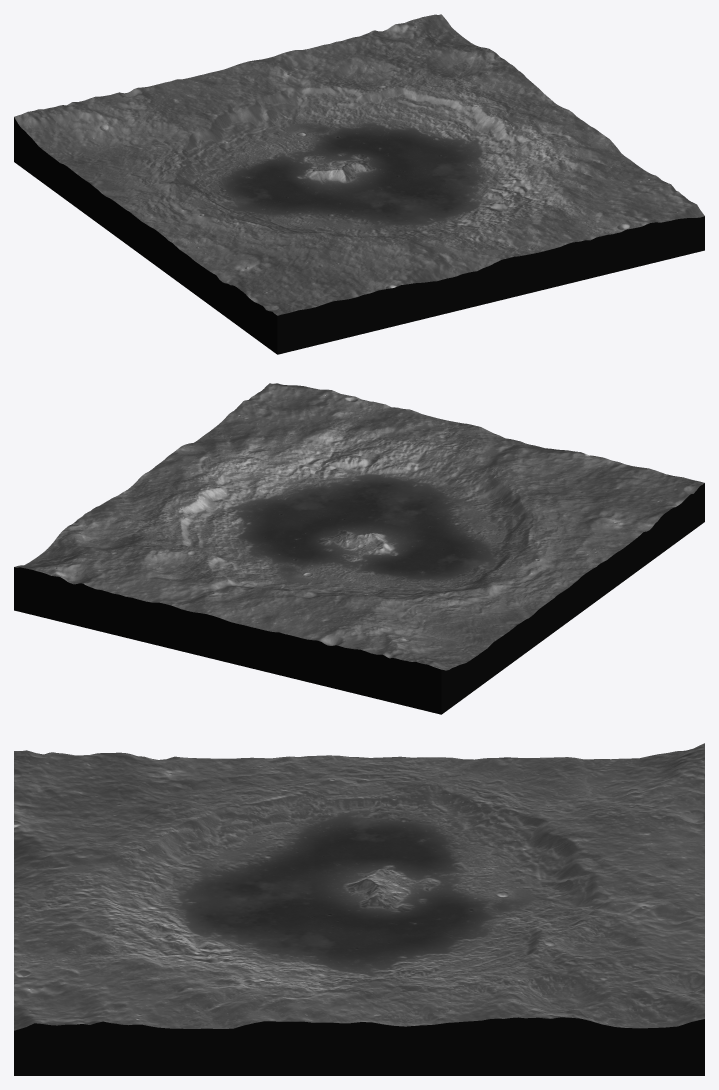
The model's file is tsiolkovskiy_crater_on_the_moon_ca_180km_diam..glb.
The picture shows the model from 3 angles, top to bottom: view 1: azimuth 30°, elevation 25°; view 2: azimuth 150°, elevation 25°; view 3: azimuth 270°, elevation 25°; orthographic projection. The views are drawn at different scales.
Visible parts, largest first — view 1: Tsiolkovskiy_LP; view 2: Tsiolkovskiy_LP; view 3: Tsiolkovskiy_LP.
Boxes of the visible parts, box(x1,y1,x2,y2) form: Tsiolkovskiy_LP: box(14, 14, 704, 354); Tsiolkovskiy_LP: box(14, 383, 704, 714); Tsiolkovskiy_LP: box(14, 743, 704, 1075).
Size of the model in its own units: 938179 by 98128 by 1001319.
2 materials, 1 textured.
